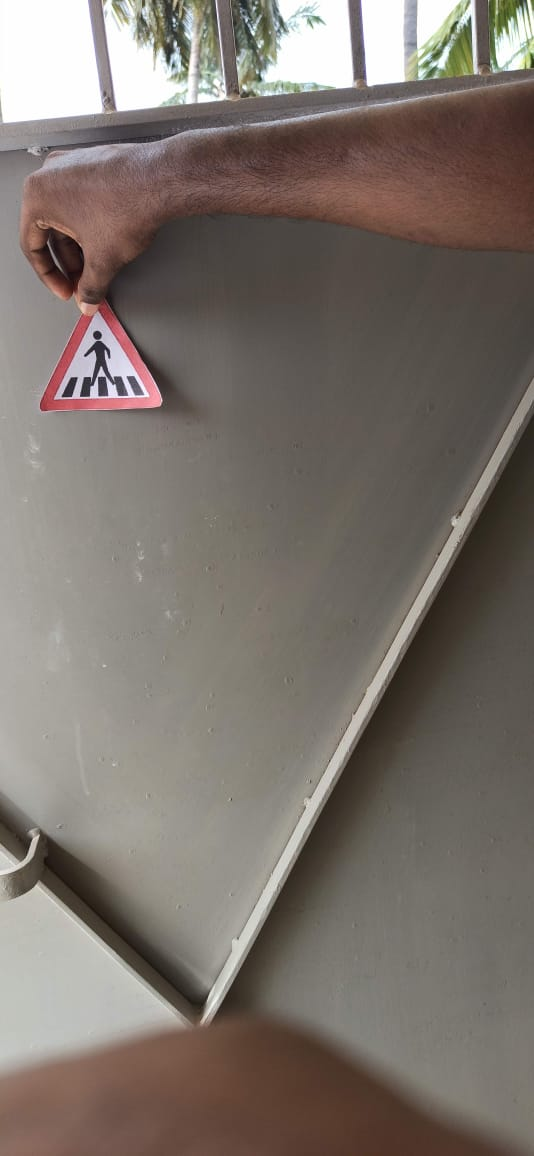PEDESTRIAN CROSSING: (10, 297, 187, 409)
